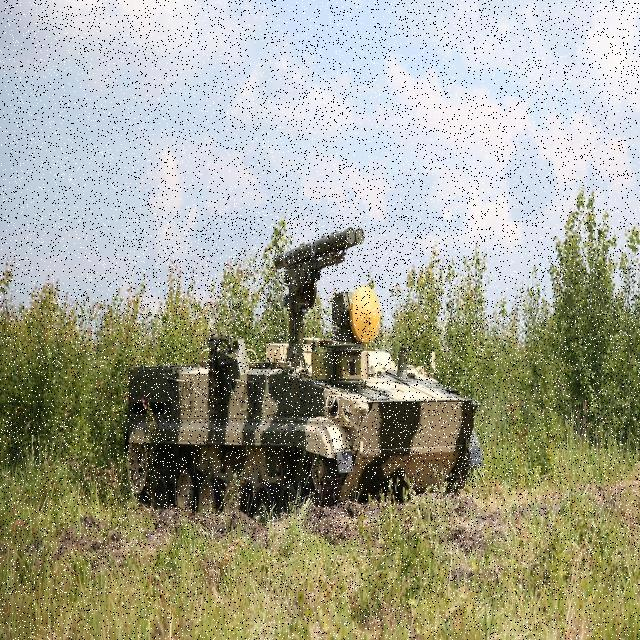MIL_MBT: (123, 216, 486, 539)
